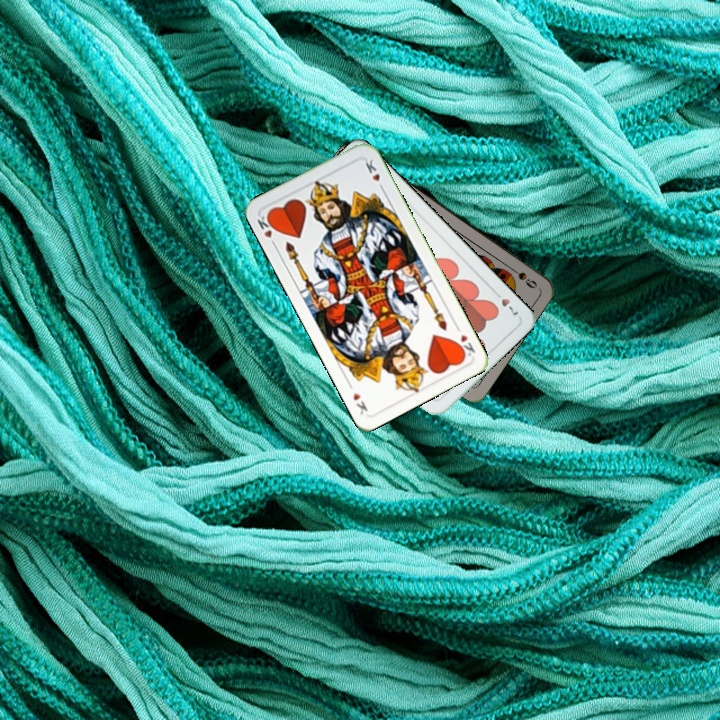H7: (490, 287, 521, 318)
HK: (253, 209, 279, 250), (451, 321, 478, 360)
S9: (504, 262, 540, 291)
